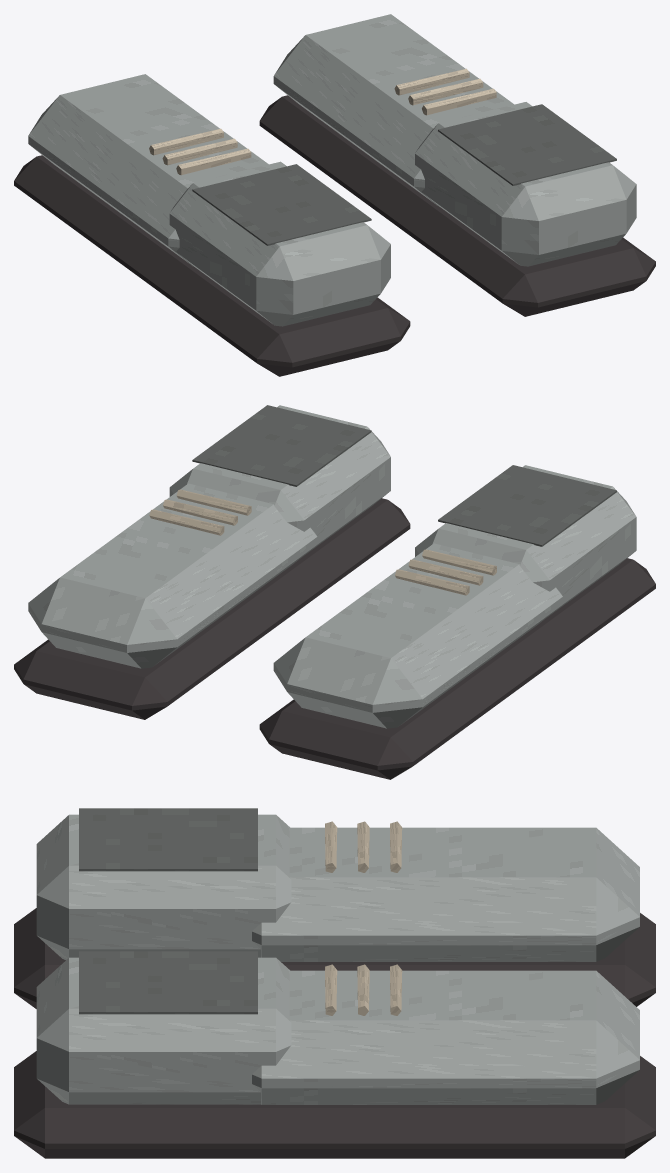
The model's file is golf_shoes.glb.
3 views of the same model, one above another, from view 1: azimuth 30°, elevation 25°; view 2: azimuth 150°, elevation 25°; view 3: azimuth 270°, elevation 25° (orthographic). The views are drawn at different scales.
Visible parts, largest first — view 1: block_shaped sole (×2), block_vamp and toe (×2), block_shaft (×2), block_opening (×2), block_lace (×6); view 2: block_vamp and toe (×2), block_shaped sole (×2), block_shaft (×2), block_opening (×2), block_lace (×6); view 3: block_vamp and toe (×2), block_shaft (×2), block_shaped sole (×2), block_opening (×2), block_lace (×6).
Boxes of the visible parts, x1,y1,x2,y2 form: block_shaped sole (×2): [14, 95, 655, 376]; block_vamp and toe (×2): [28, 14, 514, 266]; block_shaft (×2): [169, 102, 636, 326]; block_opening (×2): [192, 104, 616, 245]; block_lace (×6): [149, 68, 496, 175]; block_vamp and toe (×2): [28, 483, 562, 728]; block_shaped sole (×2): [14, 498, 655, 779]; block_shaft (×2): [169, 405, 636, 616]; block_opening (×2): [192, 405, 616, 546]; block_lace (×6): [149, 489, 496, 595]; block_vamp and toe (×2): [252, 827, 639, 1104]; block_shaft (×2): [36, 814, 291, 1104]; block_shaped sole (×2): [14, 908, 655, 1158]; block_opening (×2): [79, 808, 257, 1014]; block_lace (×6): [325, 821, 402, 1015].
Size of the model in its own units: 0.1941 by 0.0565 by 0.2267.
1 material, 1 textured.
